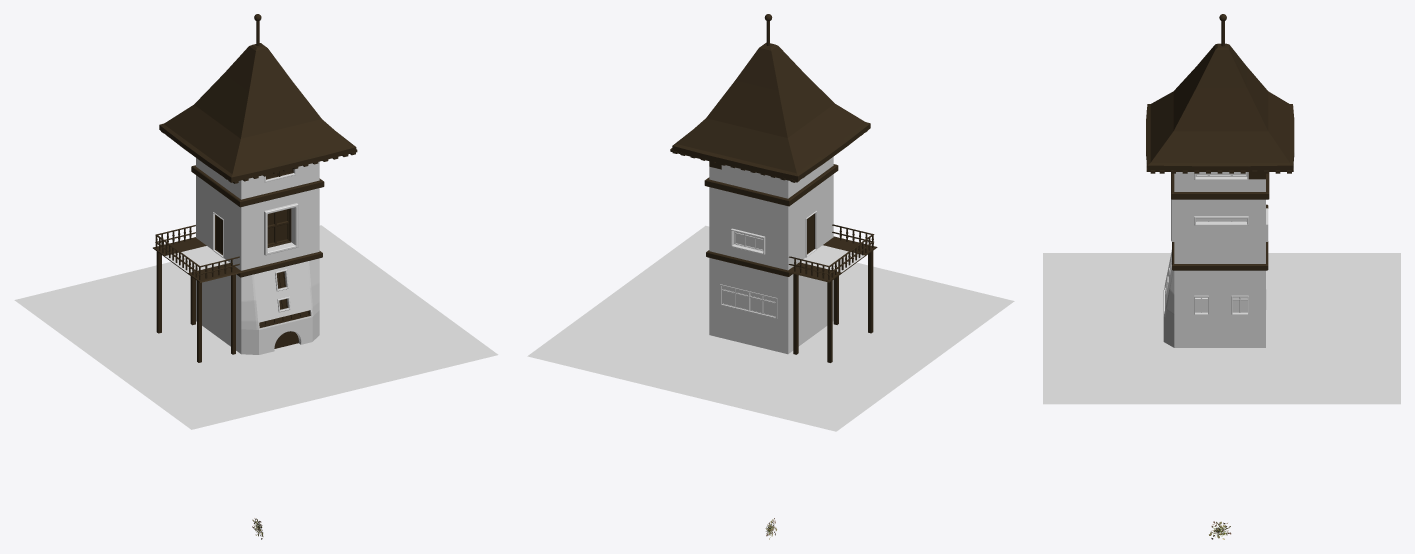
File: castillo.glb
3 renders of one model, left to right at view 1: azimuth 30°, elevation 25°; view 2: azimuth 150°, elevation 25°; view 3: azimuth 270°, elevation 25°, orthographic.
Parts seen in each view (by area): view 1: Plane, Cube, Cube.011, Cube.003, Cylinder.004; view 2: Plane, Cube, Cube.011, Cube.002, Cylinder.004; view 3: Plane, Cube, Cube.001.
Part boxes in pixels (x1=…): Plane: x1=14, y1=225, x2=498, y2=429; Cube: x1=153, y1=14, x2=356, y2=354; Cube.011: x1=156, y1=251, x2=235, y2=362; Cube.003: x1=267, y1=208, x2=291, y2=247; Cylinder.004: x1=155, y1=227, x2=232, y2=279; Plane: x1=527, y1=225, x2=1014, y2=431; Cube: x1=672, y1=14, x2=877, y2=354; Cube.011: x1=793, y1=251, x2=873, y2=362; Cube.002: x1=722, y1=286, x2=775, y2=316; Cylinder.004: x1=794, y1=227, x2=873, y2=279; Plane: x1=1043, y1=253, x2=1400, y2=404; Cube: x1=1146, y1=14, x2=1294, y2=347; Cube.001: x1=1195, y1=297, x2=1247, y2=312.
Bounding box in the file's own units: 15.18 × 24.63 × 15.18.
